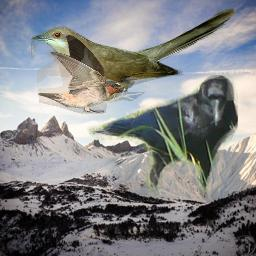Crow: (87, 75, 238, 195)
Cuckoo: (31, 7, 236, 101)
Swallow: (37, 34, 124, 114)
